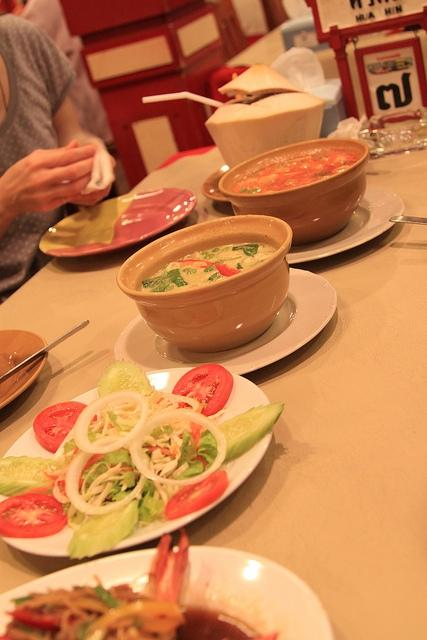cucumber: (68, 499, 138, 560), (217, 402, 284, 464), (0, 456, 62, 496), (97, 358, 152, 398)
onion: (130, 408, 227, 486), (65, 434, 149, 516), (73, 390, 149, 454), (162, 392, 200, 412)
tomato: (32, 401, 98, 454), (164, 470, 229, 520), (172, 364, 234, 416), (0, 494, 67, 538), (215, 264, 241, 276)
